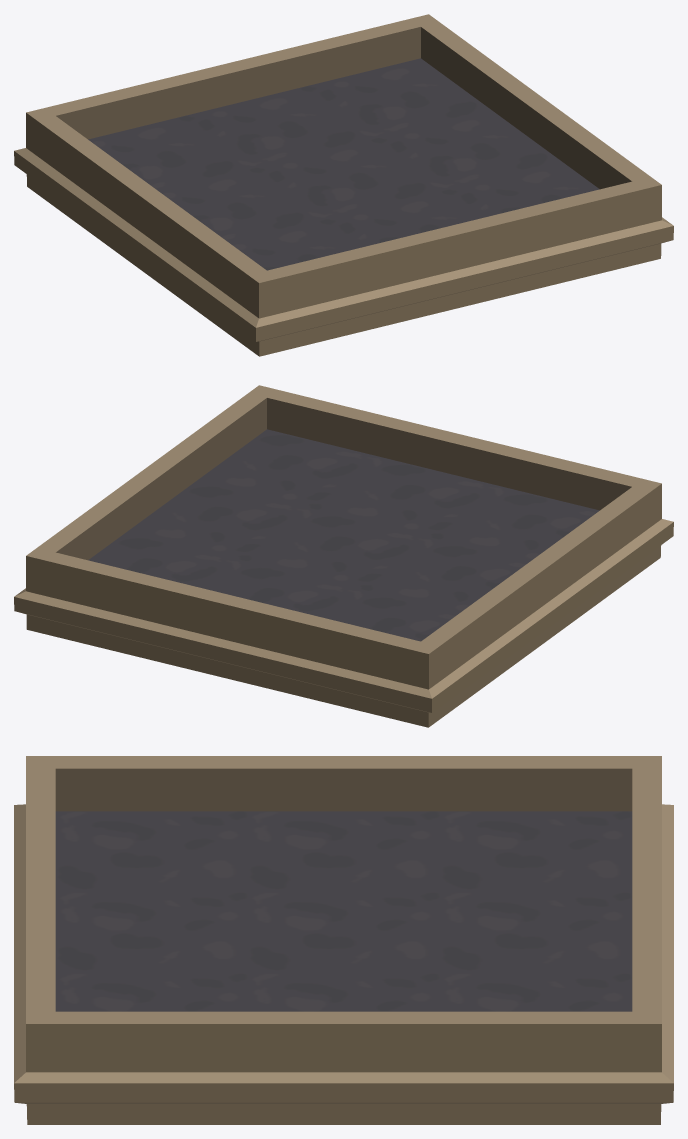
The model's file is RoofTop_B04.fbx.
The picture shows the model from 3 angles, top to bottom: view 1: azimuth 30°, elevation 25°; view 2: azimuth 150°, elevation 25°; view 3: azimuth 270°, elevation 25°; orthographic projection. The views are drawn at different scales.
Visible parts, largest first — view 1: RoofTop_B04; view 2: RoofTop_B04; view 3: RoofTop_B04.
Part boxes in pixels (x1,y1,x2,y2): RoofTop_B04: [14, 14, 673, 356]; RoofTop_B04: [14, 385, 673, 727]; RoofTop_B04: [14, 756, 673, 1124].
Size of the model in its own units: 638 by 108 by 639.
